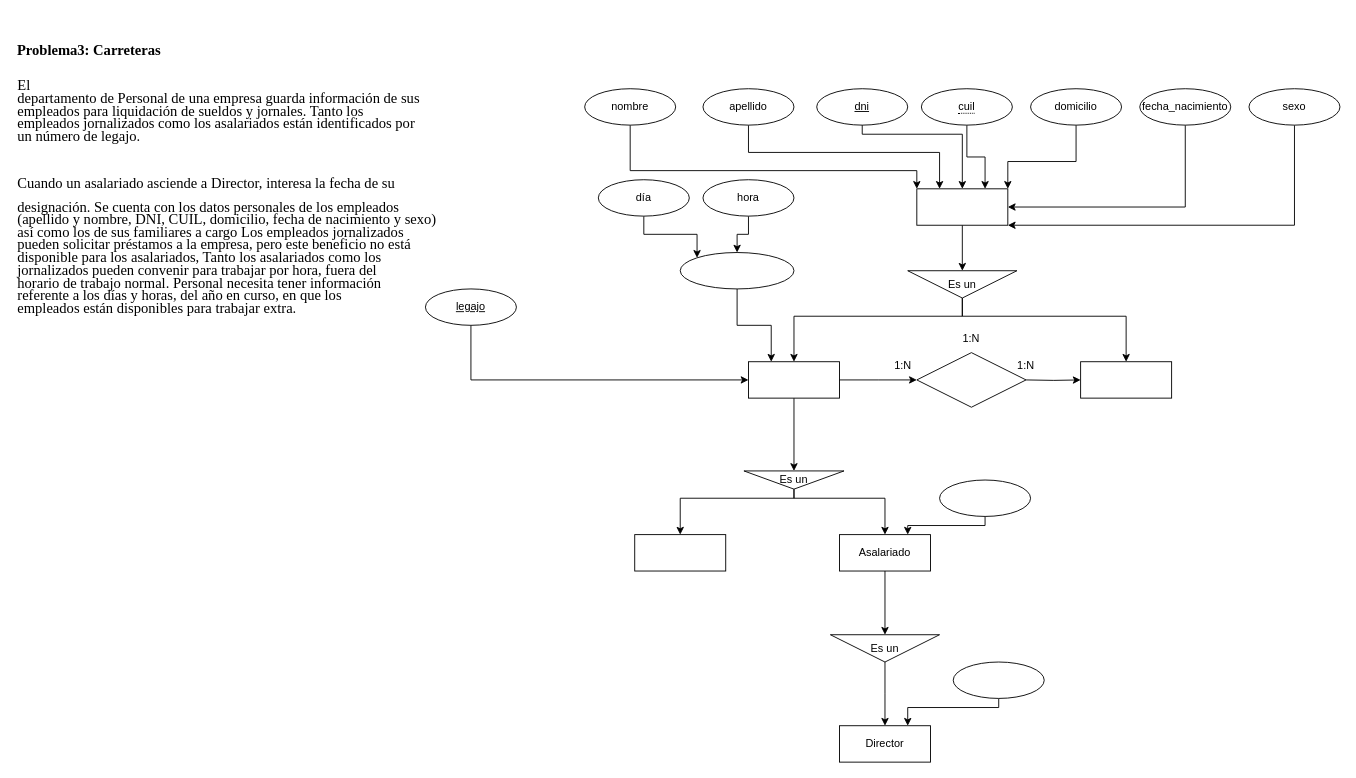
Some shapes in this 1356 by 778 pixel diagram are drawn without their labels. The shapes that lost their labels are listed below. From the top down, each one's box as (x1, y1, x2, y2) in pixels, then its label:
(916, 188, 1008, 225): Persona
(679, 252, 794, 289): fecha_trabajo_extra
(748, 361, 839, 398): Empleado
(916, 352, 1026, 407): tiene
(1080, 361, 1172, 398): familiar
(939, 479, 1031, 516): prestamo
(634, 534, 726, 571): Jornalizado
(952, 661, 1044, 698): fecha_acenso
